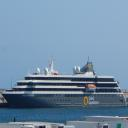cruises: (3, 54, 128, 109)
